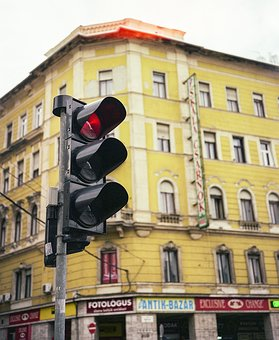trafic: (56, 94, 115, 230)
